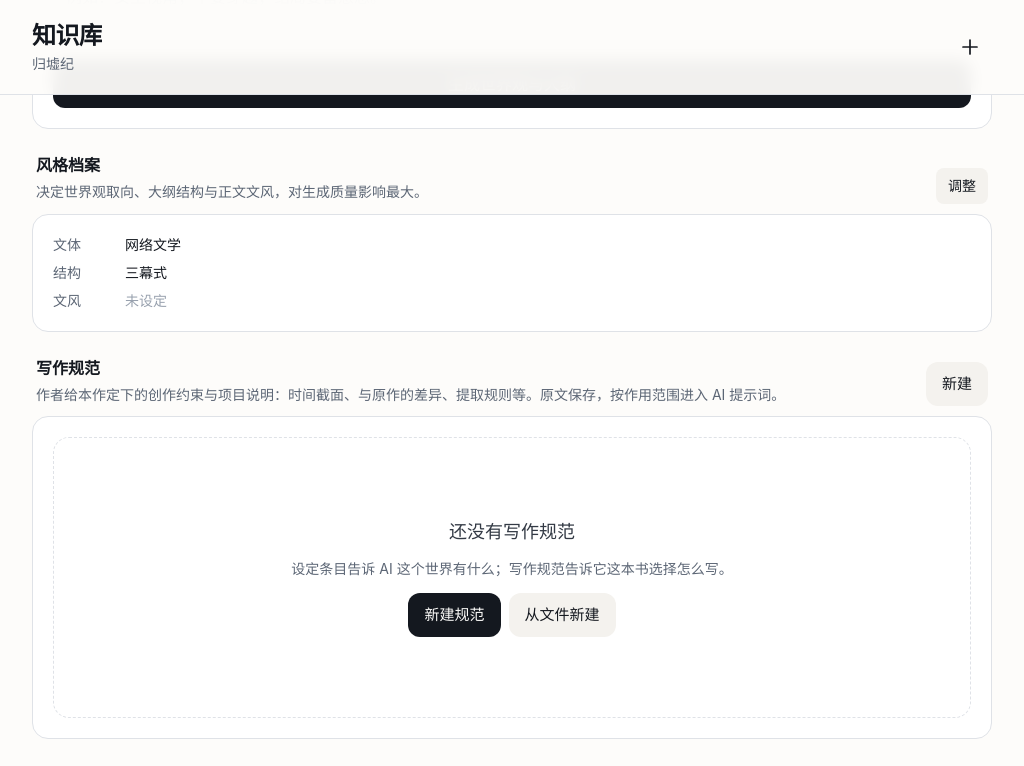
Scenario: 新建与上传 › 插入差异说明模板：空规范时填入标题与模板
(page scrolled)
Click the button "新建" at {"x": 957, "y": 384}, box [926,362,988,406]
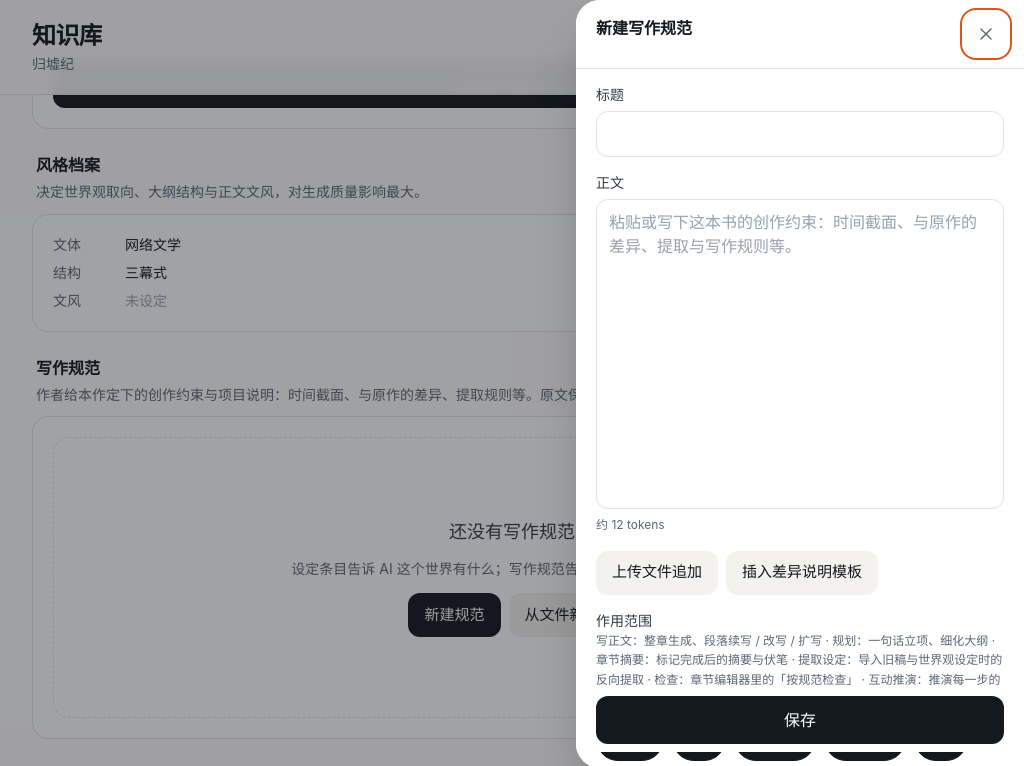
Click the button "插入差异说明模板" at {"x": 802, "y": 572}, box [726,550,878,594]
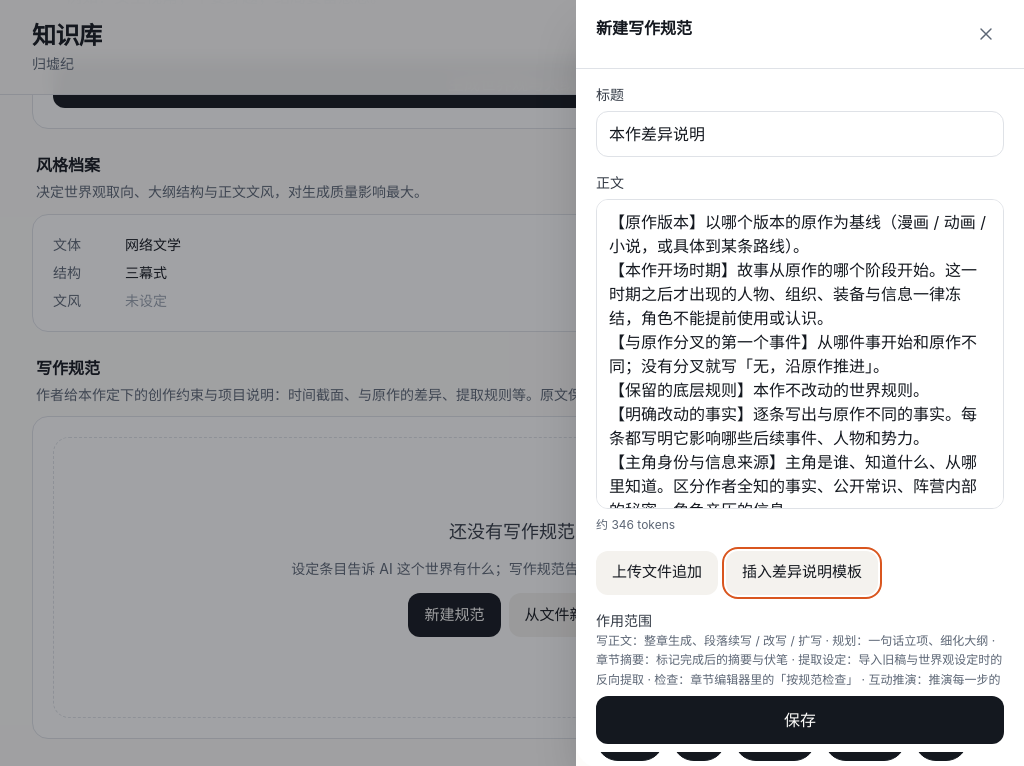
Check: the field labelled "标题" holds "本作差异说明", box [596,111,1004,157]
